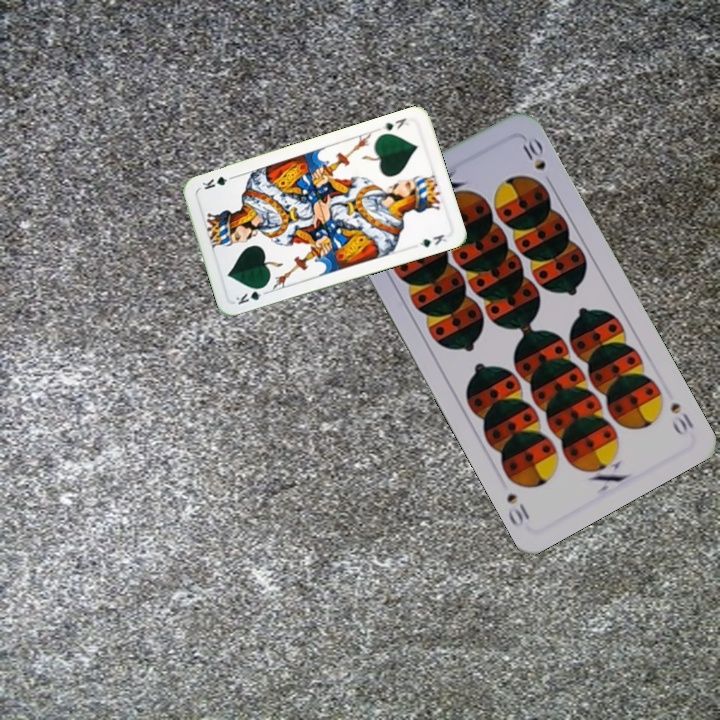GK: (232, 282, 271, 307), (378, 114, 411, 133)
S10: (666, 398, 696, 439)
